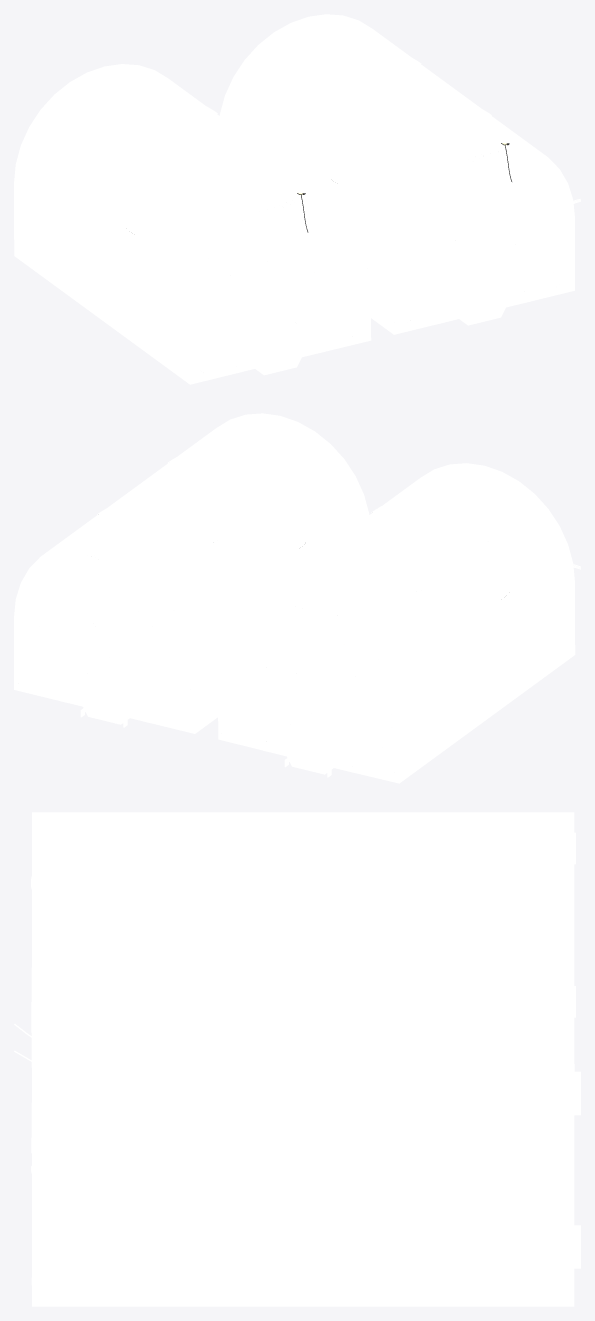
File: Train_Tunnel_End_01.fbx
3 renders of one model, top to bottom at view 1: azimuth 30°, elevation 25°; view 2: azimuth 150°, elevation 25°; view 3: azimuth 270°, elevation 25°, orthographic. The views are drawn at different scales.
Parts seen in each view (by area): view 1: Train_Tunnel_End_01; view 2: Train_Tunnel_End_01; view 3: Train_Tunnel_End_01.
Part boxes in pixels (box(x1,y1,x2,y2)): Train_Tunnel_End_01: box(14, 14, 580, 384); Train_Tunnel_End_01: box(14, 413, 580, 783); Train_Tunnel_End_01: box(14, 812, 580, 1306).
Size of the model in its own units: 1304 by 553 by 1045.
